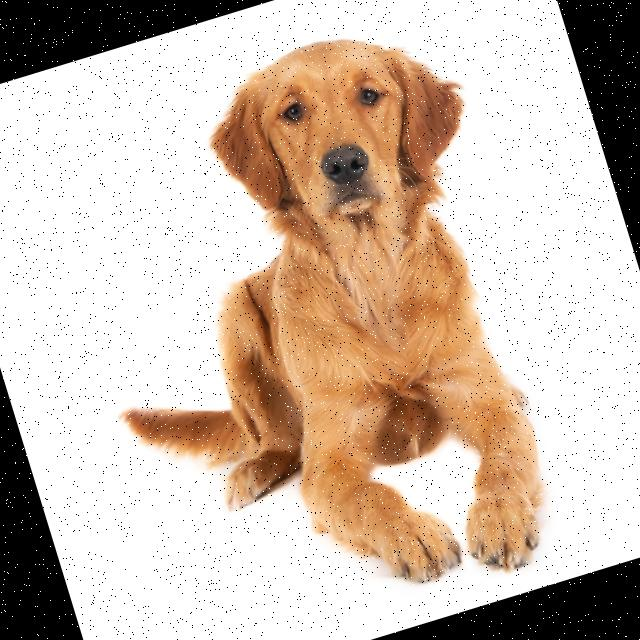Dog: (33, 4, 600, 640)
